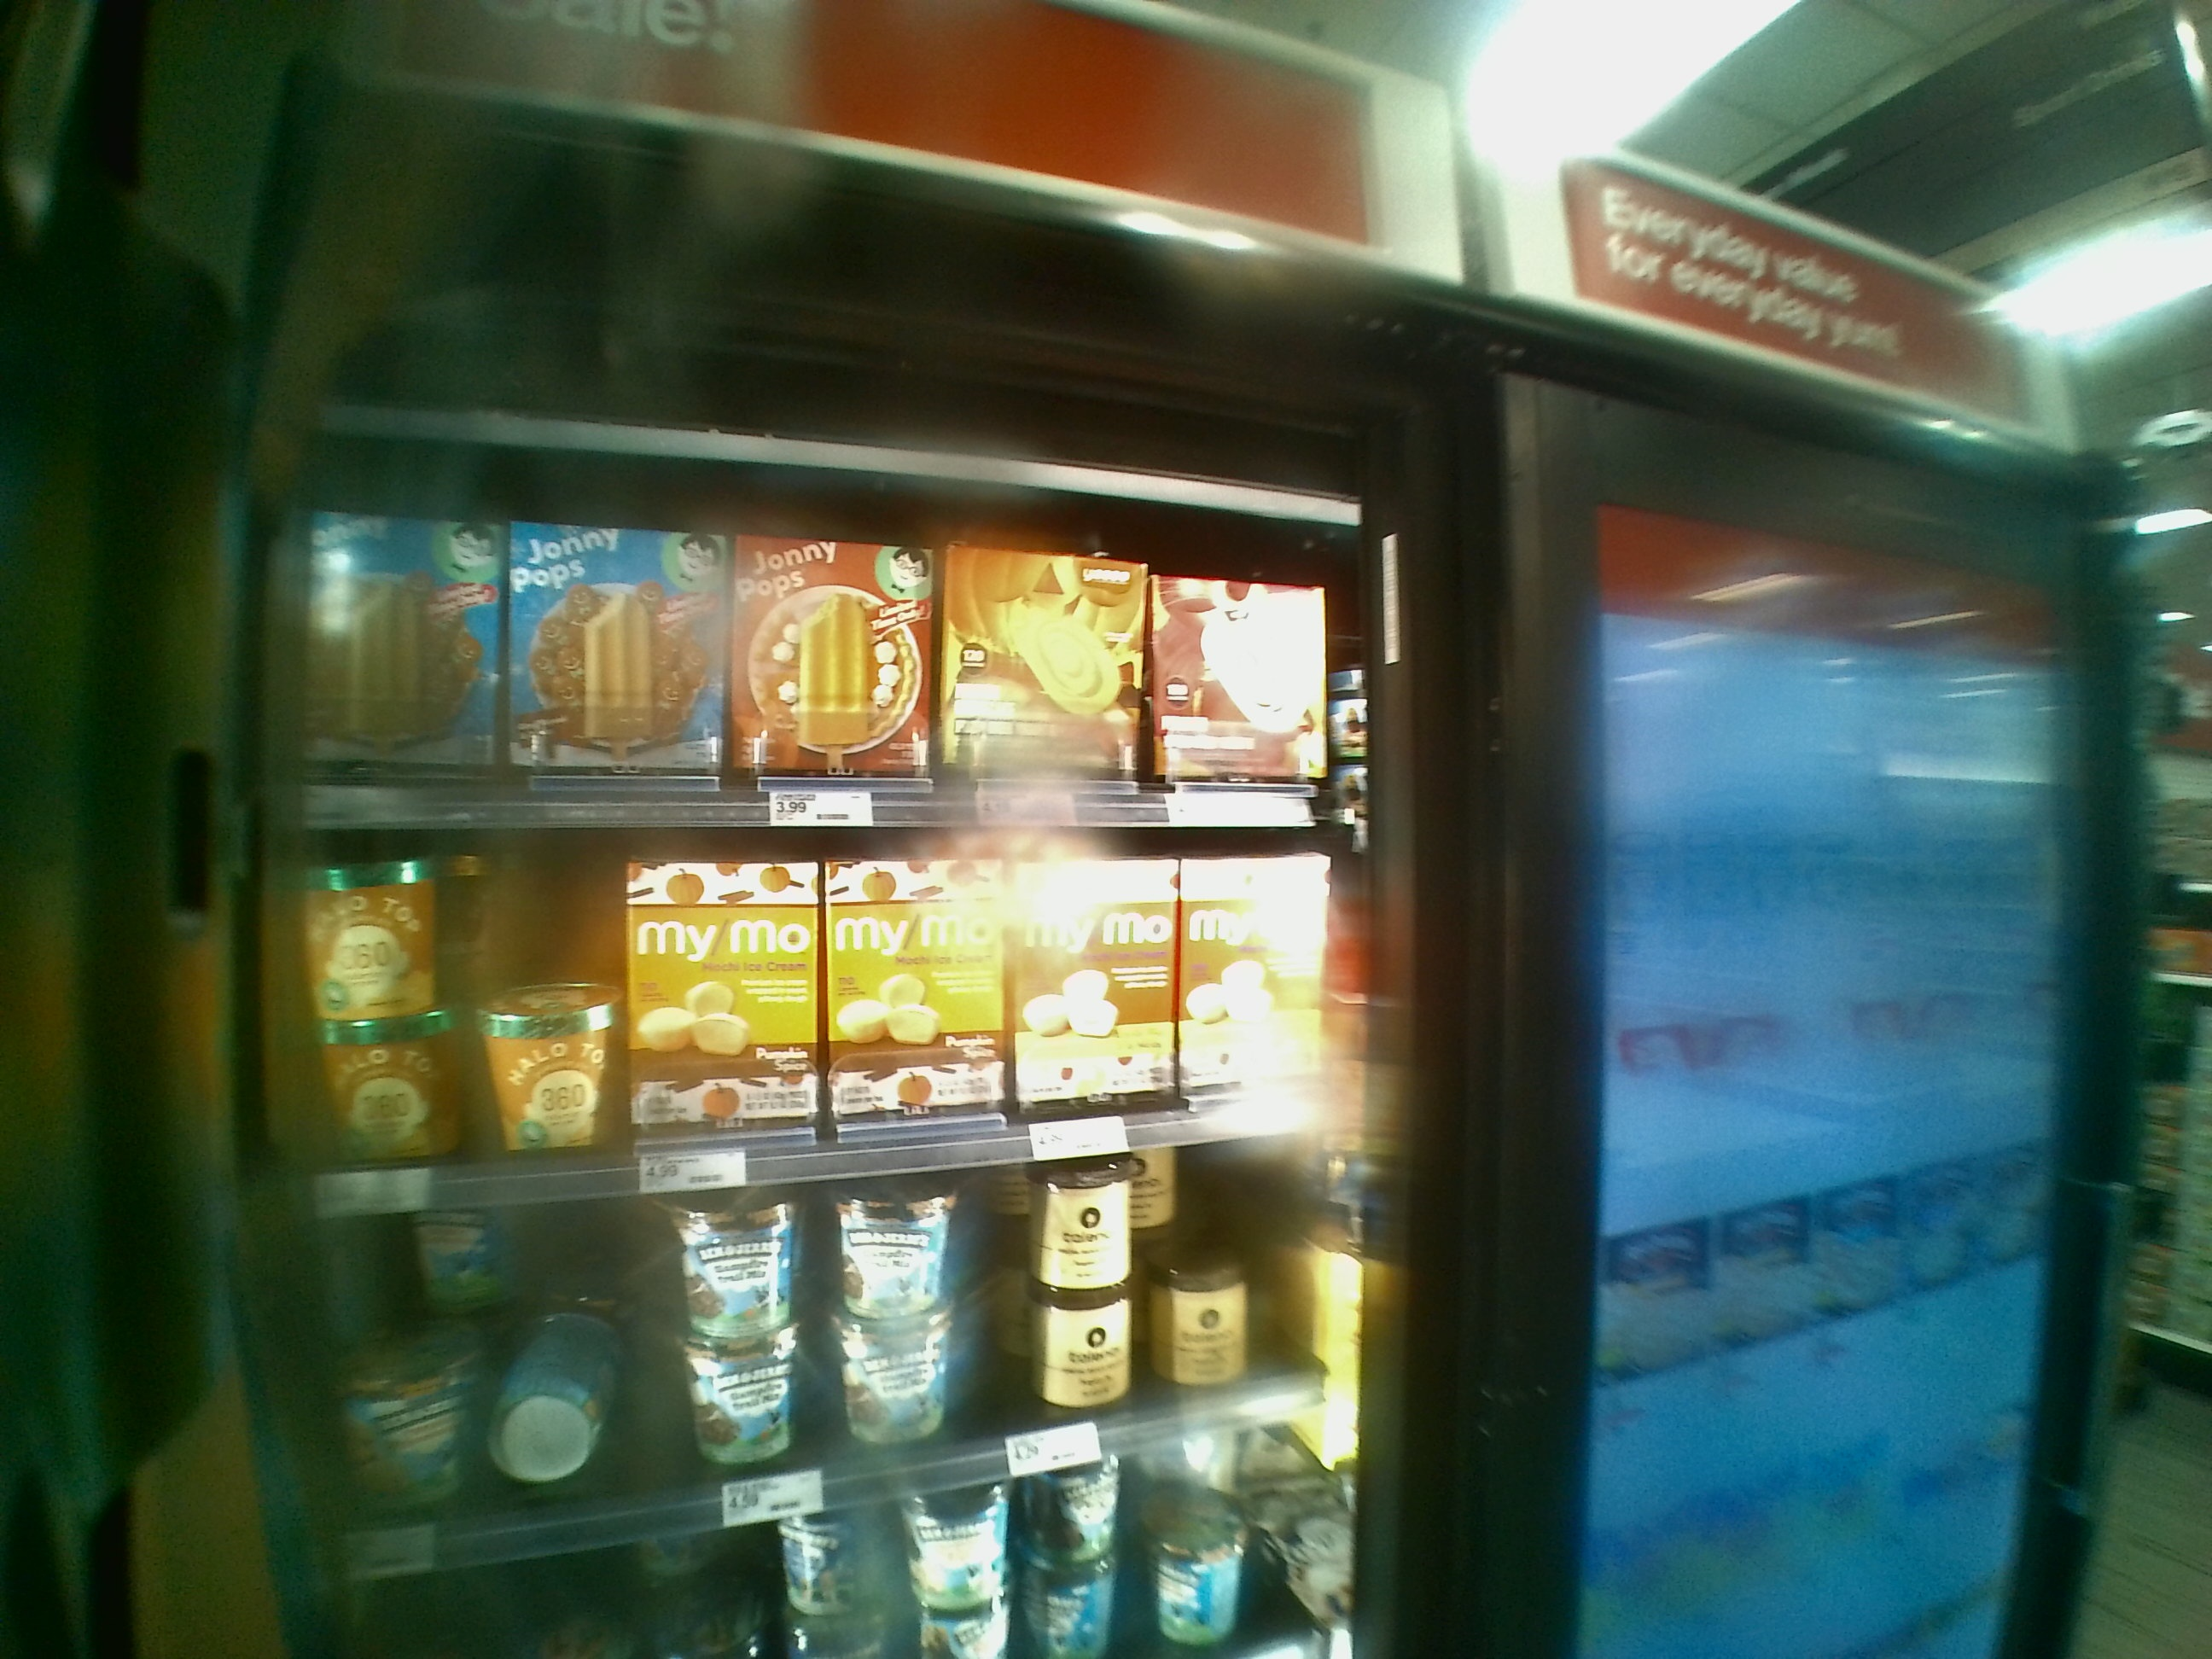shelf: (254, 437, 1352, 845), (239, 823, 1393, 1201), (249, 1201, 1388, 1560)
